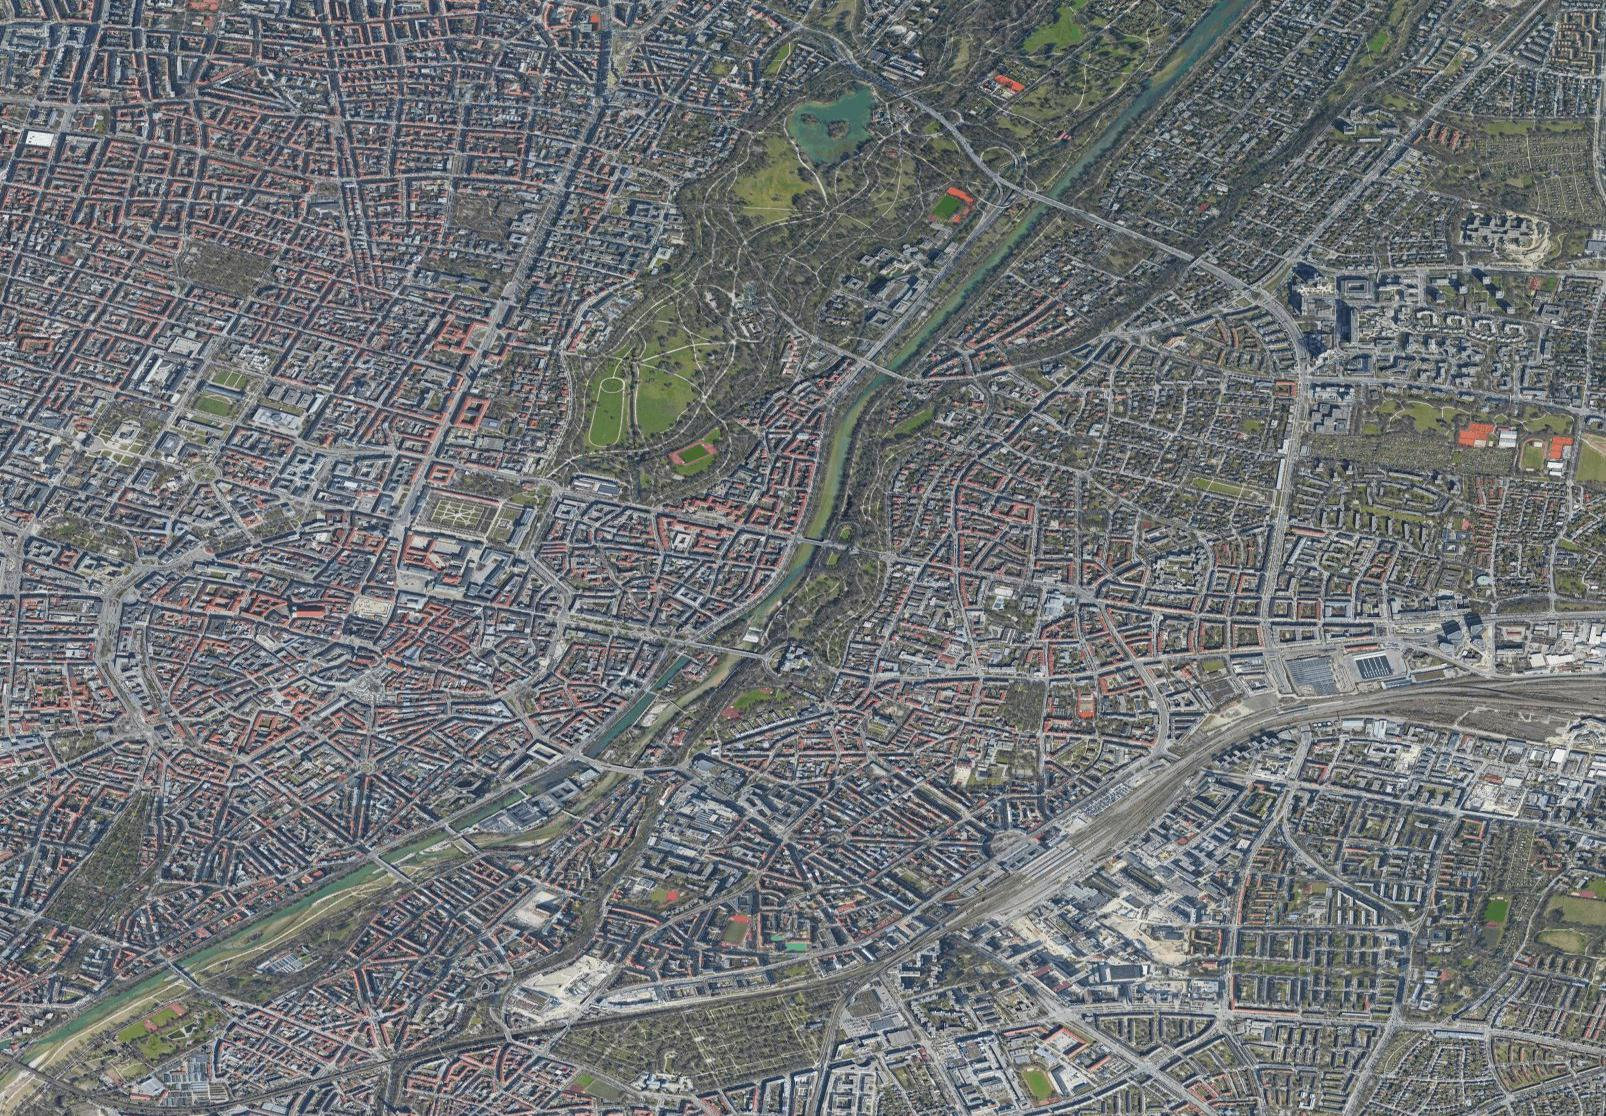bridge: (1, 1046, 48, 1081), (794, 527, 826, 552), (868, 357, 899, 381), (367, 850, 398, 874), (433, 814, 464, 839), (571, 745, 602, 769), (165, 958, 196, 982), (1030, 186, 1060, 209)
train_station: (988, 836, 1087, 899)
